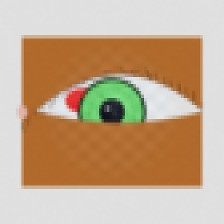hemorrhage_spot: (55, 71, 131, 131)
